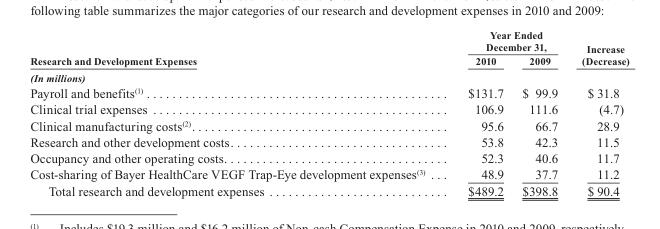table: (29, 28, 628, 197)
table column: (29, 28, 445, 197), (445, 28, 512, 197), (569, 28, 628, 197), (512, 28, 569, 197)
table column header: (29, 28, 628, 69)
table projected row header: (29, 69, 628, 84)
table row: (29, 28, 628, 53), (29, 100, 628, 117), (29, 165, 628, 182), (29, 53, 628, 69), (29, 84, 628, 100), (29, 117, 628, 133), (29, 133, 628, 149), (29, 149, 628, 165), (29, 69, 628, 84), (29, 182, 628, 197)
table spanning cell: (29, 28, 445, 69), (445, 28, 569, 53), (569, 28, 628, 69)
